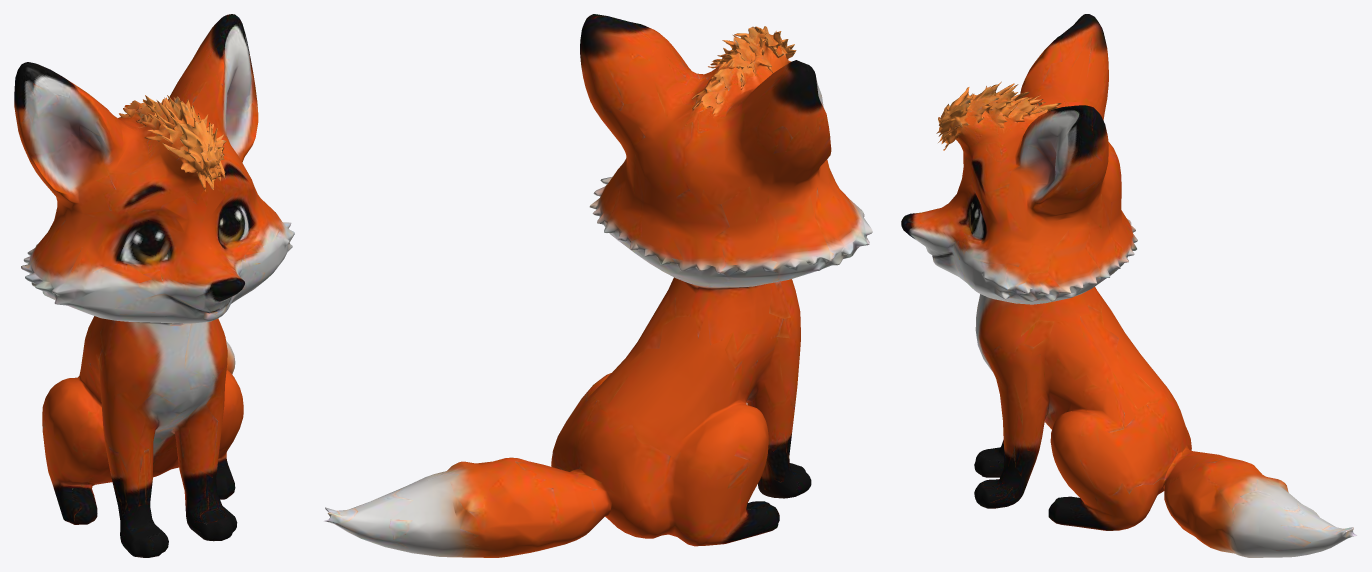
File: fox.glb
3 renders of one model, left to right at view 1: azimuth 30°, elevation 25°; view 2: azimuth 150°, elevation 25°; view 3: azimuth 270°, elevation 25°, orthographic. The views are drawn at different scales.
Size of the model in its own units: 1.49 by 1.9 by 1.83.
1 material, 1 textured.
